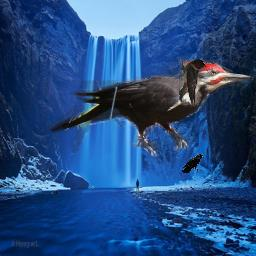Crow: (182, 154, 204, 173)
Swallow: (178, 59, 206, 105)
Woodpecker: (50, 60, 254, 159)
